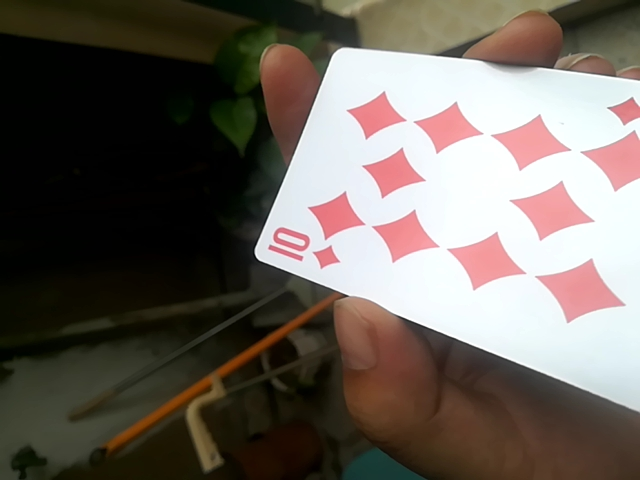fk 10: (254, 41, 640, 389)
